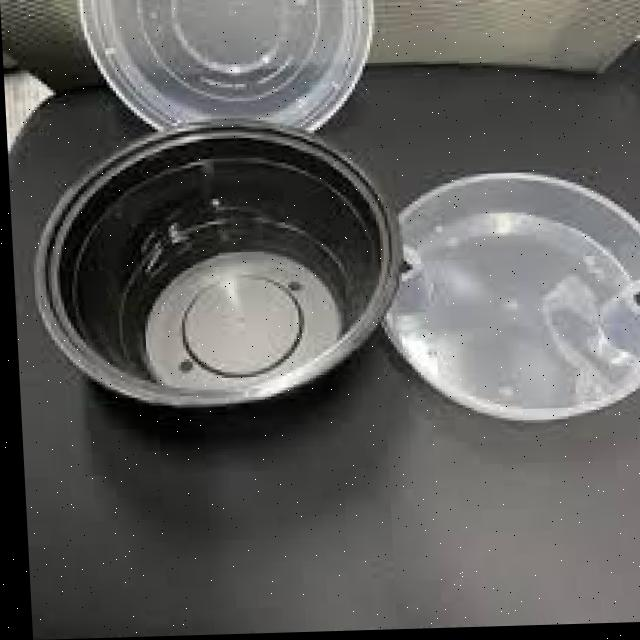disposable: (19, 104, 439, 455)
